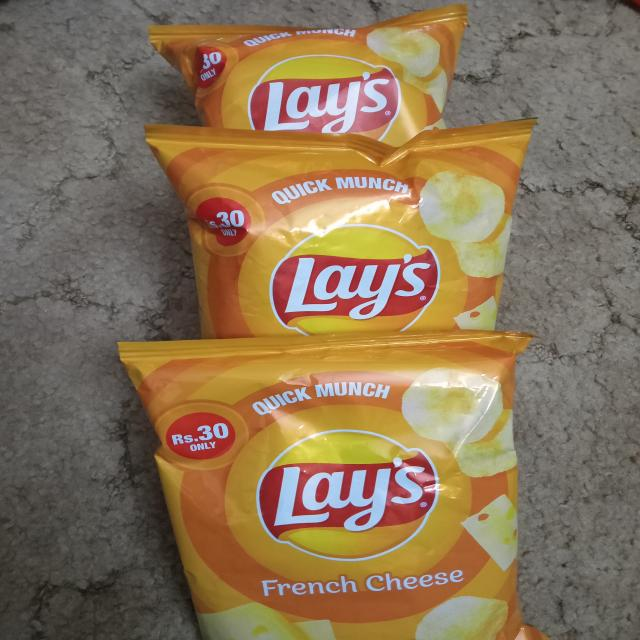Plastic: (117, 337, 551, 640), (142, 122, 540, 334), (140, 15, 469, 130)
